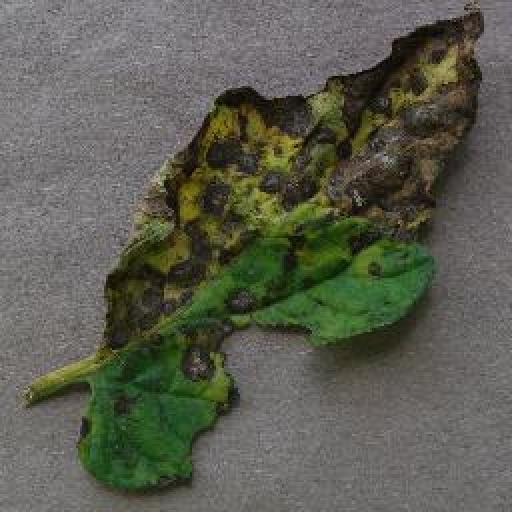Early Blight: (78, 8, 484, 493)
